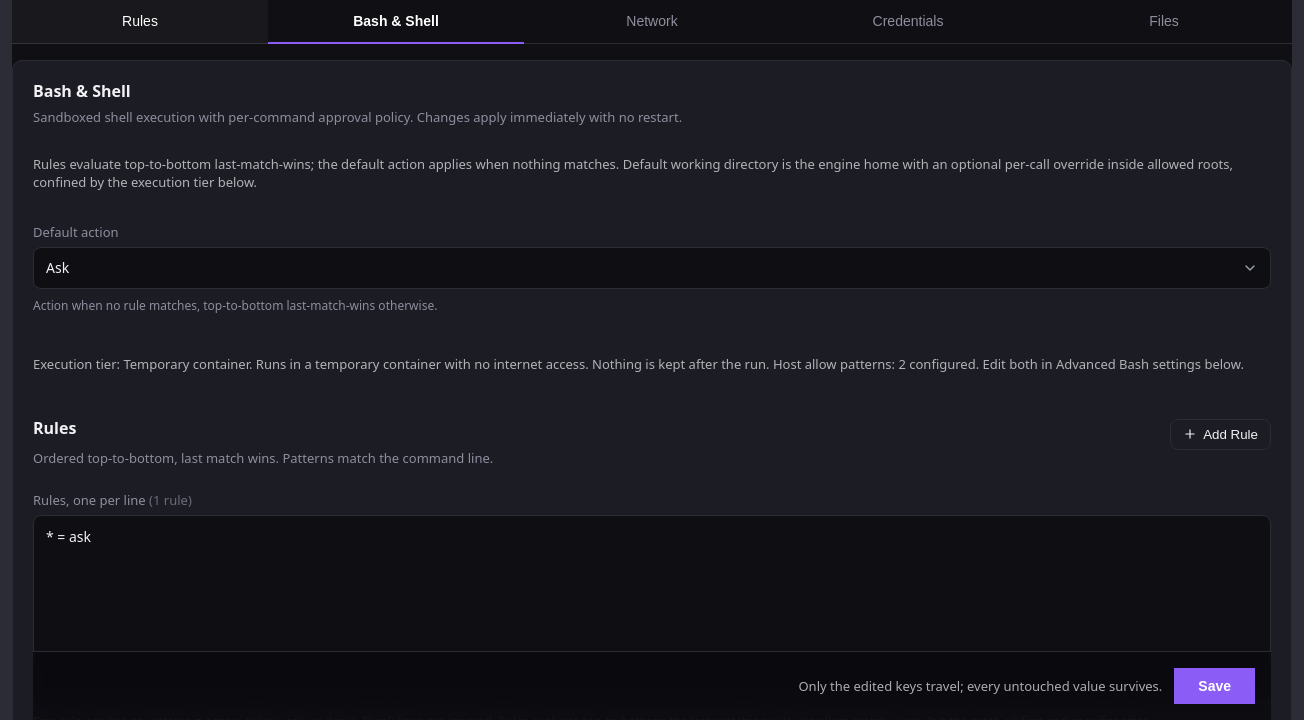
it: AccessPane advanced sections › keeps each Advanced panel inside its own settings card above the footer
What coordinates should you click on to do the following:
click the tab with test id "access-tab-files"
I would click on:
 (1164, 22)
Its box is [1036,0,1292,44].
(page scrolled)
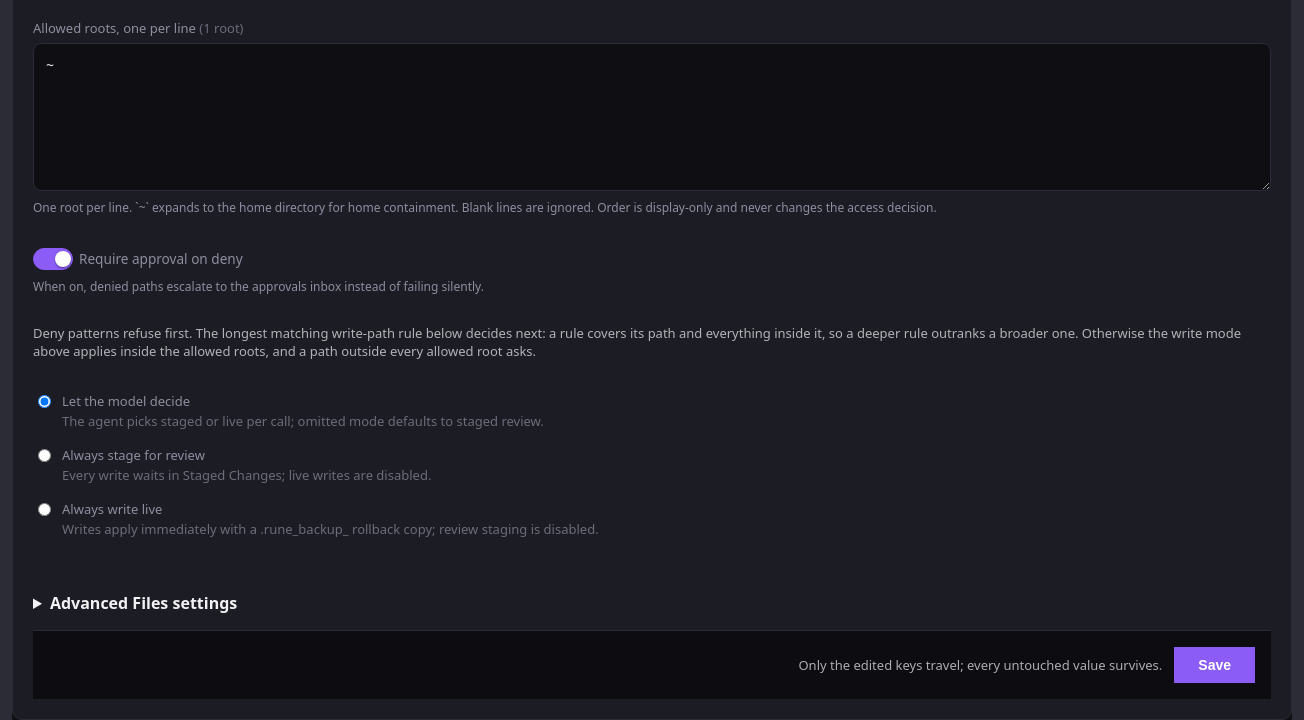
Check: the heading with test id "advanced-files-trigger" reads "Advanced Files settings", box [50,592,237,614]
